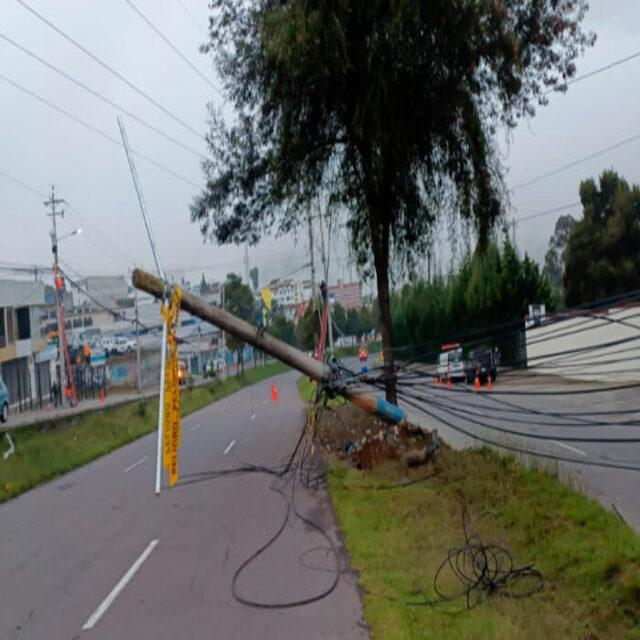Inclined Pole: (126, 265, 441, 497)
